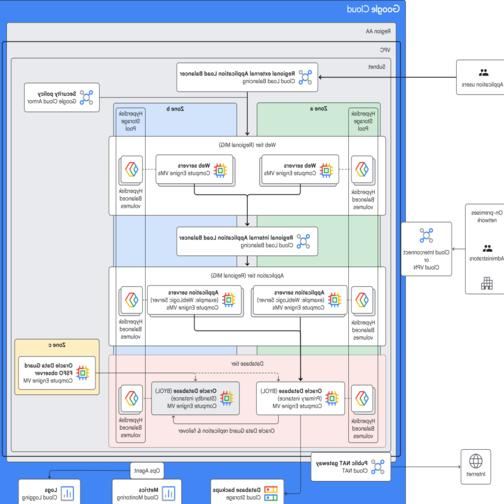actor: (465, 203, 504, 293), (456, 60, 504, 95), (460, 449, 492, 484)
compute: (251, 285, 349, 318), (147, 285, 245, 318), (16, 356, 99, 390), (261, 154, 340, 185), (156, 154, 235, 185)
data_flow: (99, 370, 357, 374), (319, 76, 456, 80), (181, 121, 314, 125), (193, 262, 302, 266), (194, 191, 302, 195), (174, 414, 280, 418), (194, 323, 299, 327), (390, 465, 460, 469), (300, 260, 302, 375), (235, 378, 281, 382), (300, 416, 302, 493), (246, 193, 249, 226), (312, 123, 315, 154), (180, 123, 183, 154), (246, 94, 249, 123), (452, 247, 478, 250), (300, 265, 304, 284), (172, 414, 176, 433), (299, 178, 302, 193), (194, 178, 197, 193), (246, 249, 249, 264), (194, 310, 197, 325), (192, 265, 194, 284), (278, 414, 280, 433), (146, 470, 149, 478), (48, 470, 51, 478), (100, 96, 104, 100)
database_storage: (256, 380, 346, 416), (151, 380, 240, 416), (349, 138, 380, 214), (113, 138, 144, 214), (349, 268, 380, 344), (113, 268, 144, 344), (349, 378, 380, 444), (113, 378, 144, 444), (211, 477, 285, 504)
network_security: (176, 61, 319, 94), (176, 226, 318, 257), (312, 452, 390, 482), (25, 82, 100, 113), (112, 477, 183, 504), (400, 232, 452, 265), (18, 477, 81, 504)
trust_boundary: (0, 1, 407, 504), (6, 29, 397, 488), (11, 52, 392, 478), (15, 74, 388, 470), (201, 97, 326, 350), (113, 97, 238, 350), (112, 360, 384, 443), (112, 138, 384, 214), (112, 268, 384, 344), (14, 338, 101, 394)
